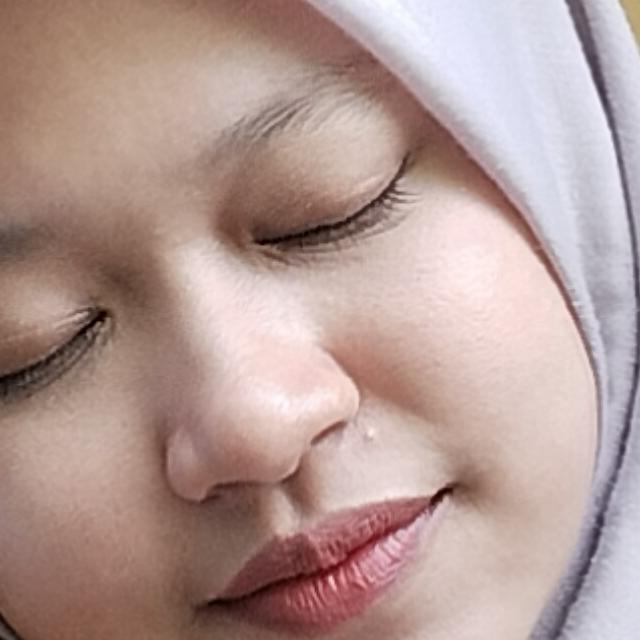tidur: (0, 278, 476, 640)
